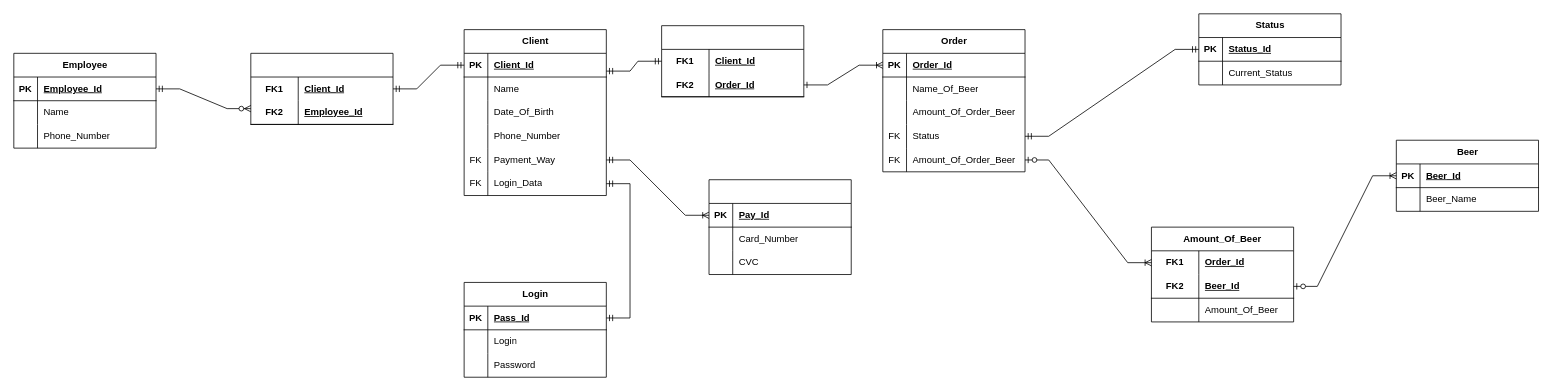
Some shapes in this 1552 by 391 pixel diagram are drawn without their labels. Each missing label, with the box of its shape:
Chat: (250, 53, 393, 124)
Online-Pay: (708, 179, 851, 275)
Shopping_Cart: (661, 25, 804, 97)
